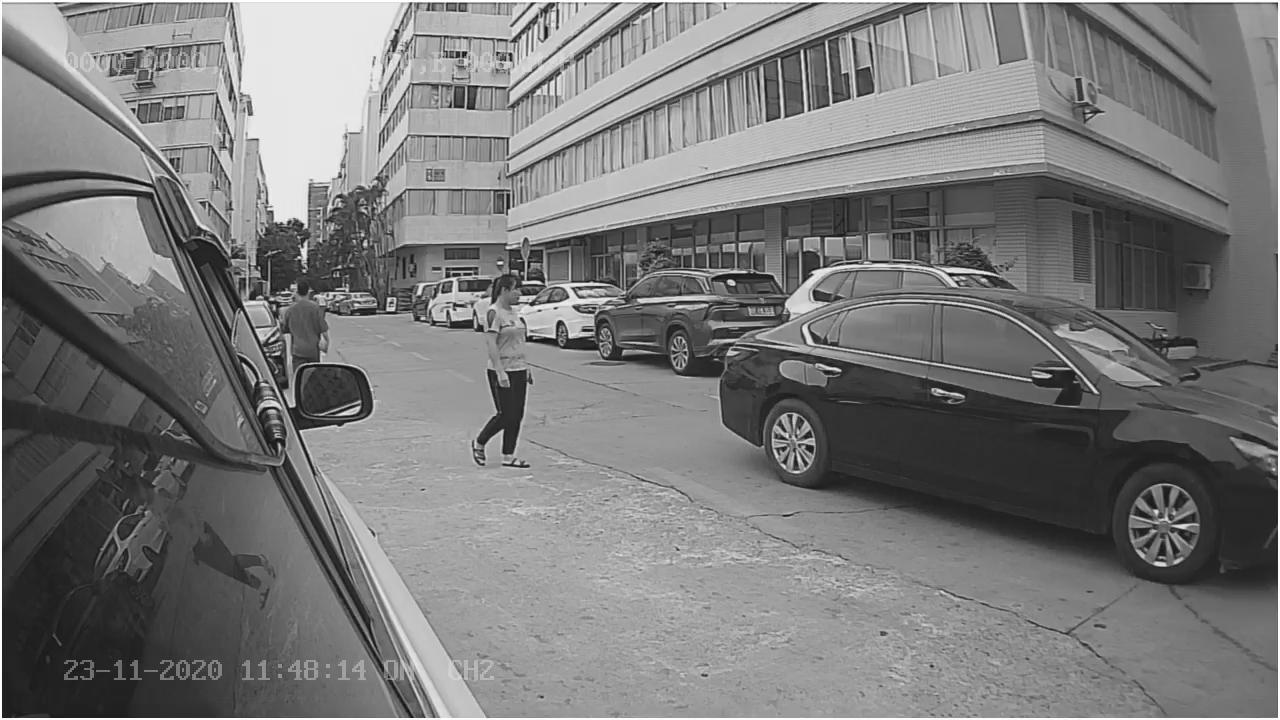person: (470, 270, 547, 472)
